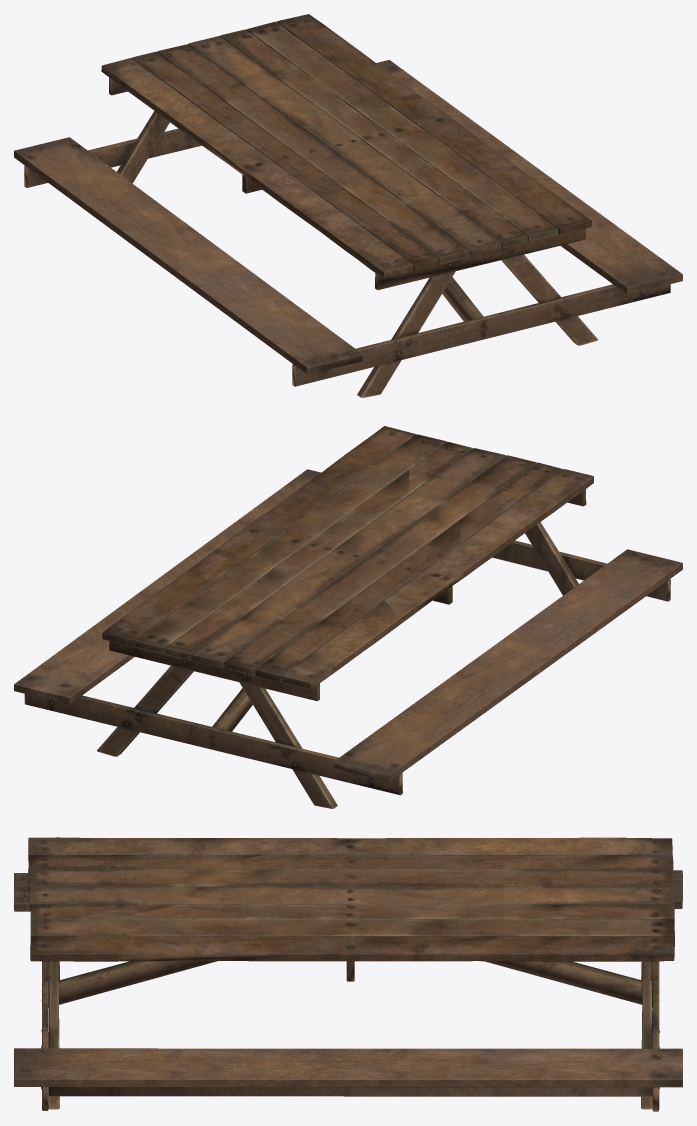
Rendered from picnictable.glb.
The picture shows the model from 3 angles, top to bottom: view 1: azimuth 30°, elevation 25°; view 2: azimuth 150°, elevation 25°; view 3: azimuth 270°, elevation 25°; orthographic projection. The views are drawn at different scales.
Parts seen in each view (by area): view 1: wooden_picnic_table; view 2: wooden_picnic_table; view 3: wooden_picnic_table.
Boxes of the visible parts, x1,y1,x2,y2 form: wooden_picnic_table: [14, 14, 682, 397]; wooden_picnic_table: [14, 426, 682, 808]; wooden_picnic_table: [14, 837, 682, 1111].
Bounding box in the file's own units: 2.24 × 0.746 × 3.02.
2 materials, 2 textured.
